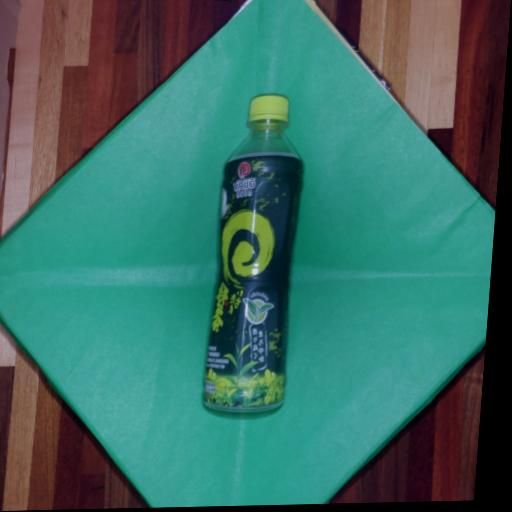bottle: (203, 95, 301, 410)
